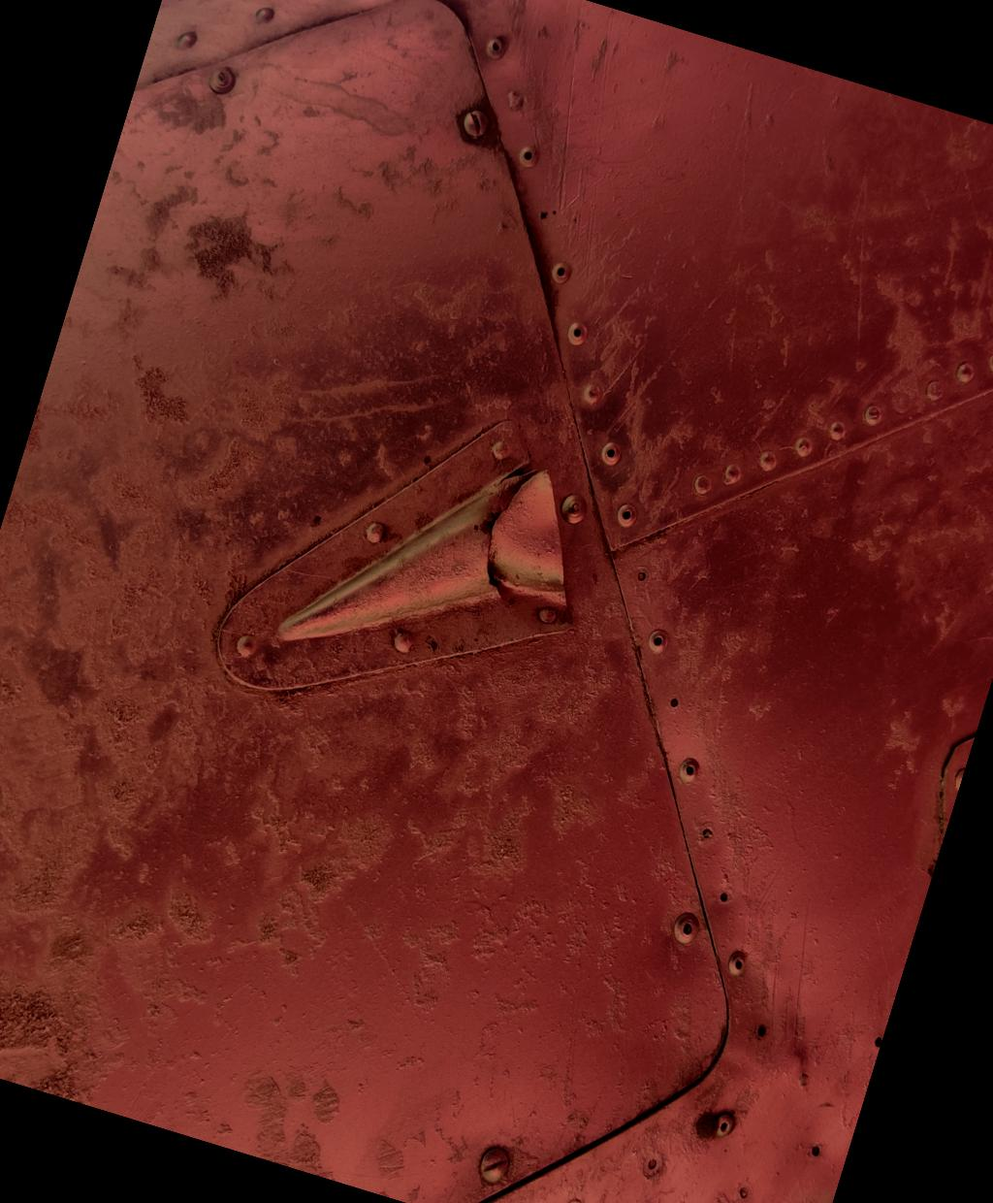crack: (427, 427, 636, 652)
